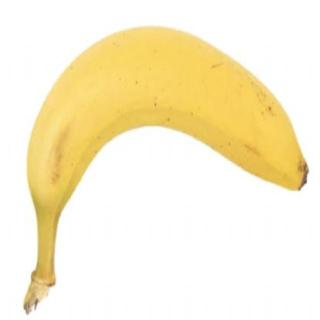banana: (26, 22, 310, 216)
